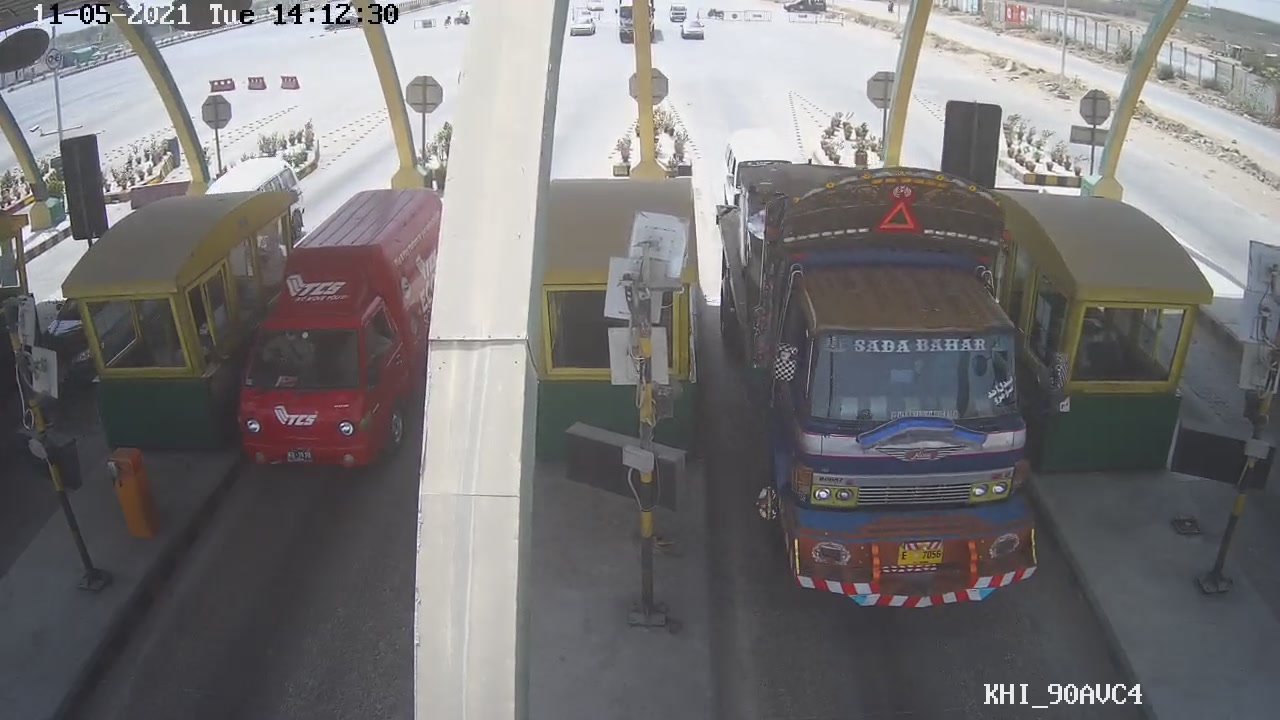F5: (716, 145, 1051, 620)
